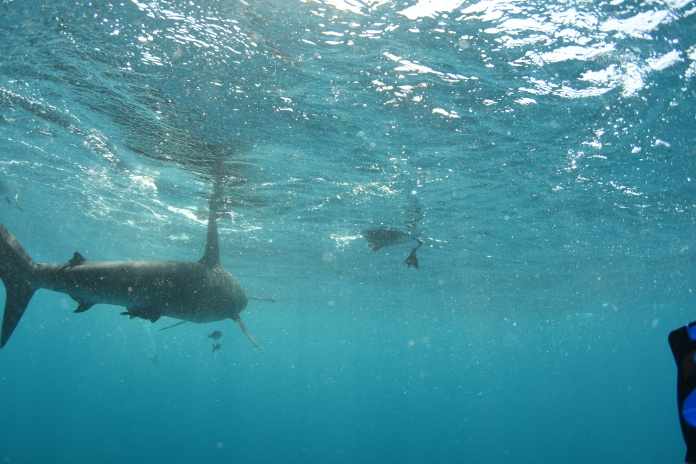Hammer: (1, 198, 287, 380)
